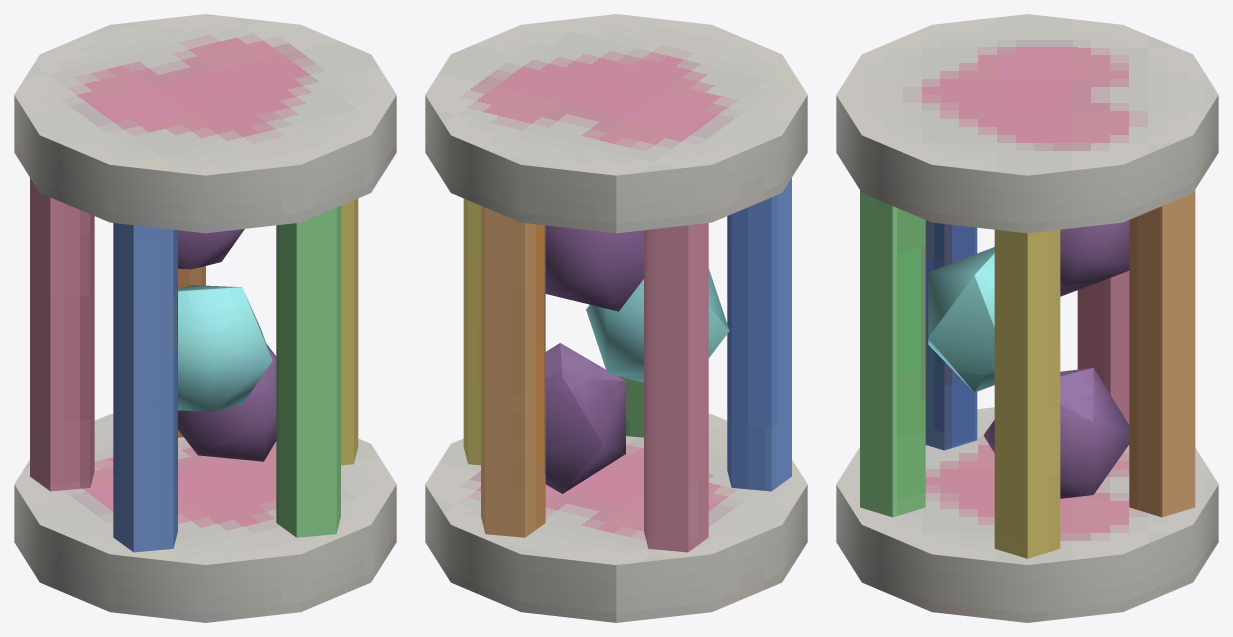
The model's file is jugueteSonajero.fbx.
The picture shows the model from 3 angles, left to right: view 1: azimuth 30°, elevation 25°; view 2: azimuth 150°, elevation 25°; view 3: azimuth 270°, elevation 25°; orthographic projection.
Visible parts, largest first — view 1: s4studio_mesh_0; view 2: s4studio_mesh_0; view 3: s4studio_mesh_0.
Boxes of the visible parts, box(x1,y1,x2,y2) form: s4studio_mesh_0: box(14, 14, 396, 622); s4studio_mesh_0: box(425, 14, 807, 622); s4studio_mesh_0: box(836, 14, 1218, 622).
Size of the model in its own units: 8.27 by 10.67 by 8.27.
Materials: 1 (1 with a texture image).
